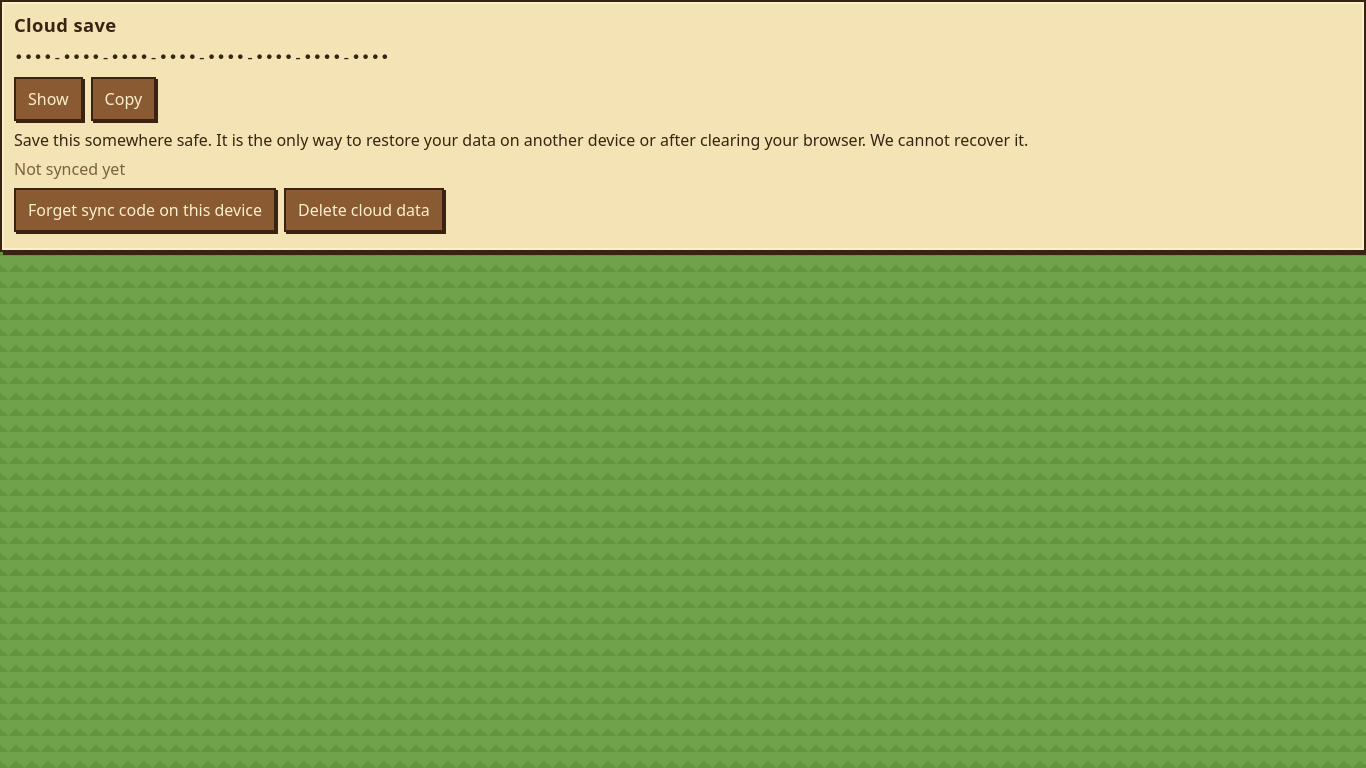
Scenario: SyncSection fix round › failed delete (code kept) shows an explicit message
Click the button "Delete cloud data" at [364, 210], box [284,188,444,232]
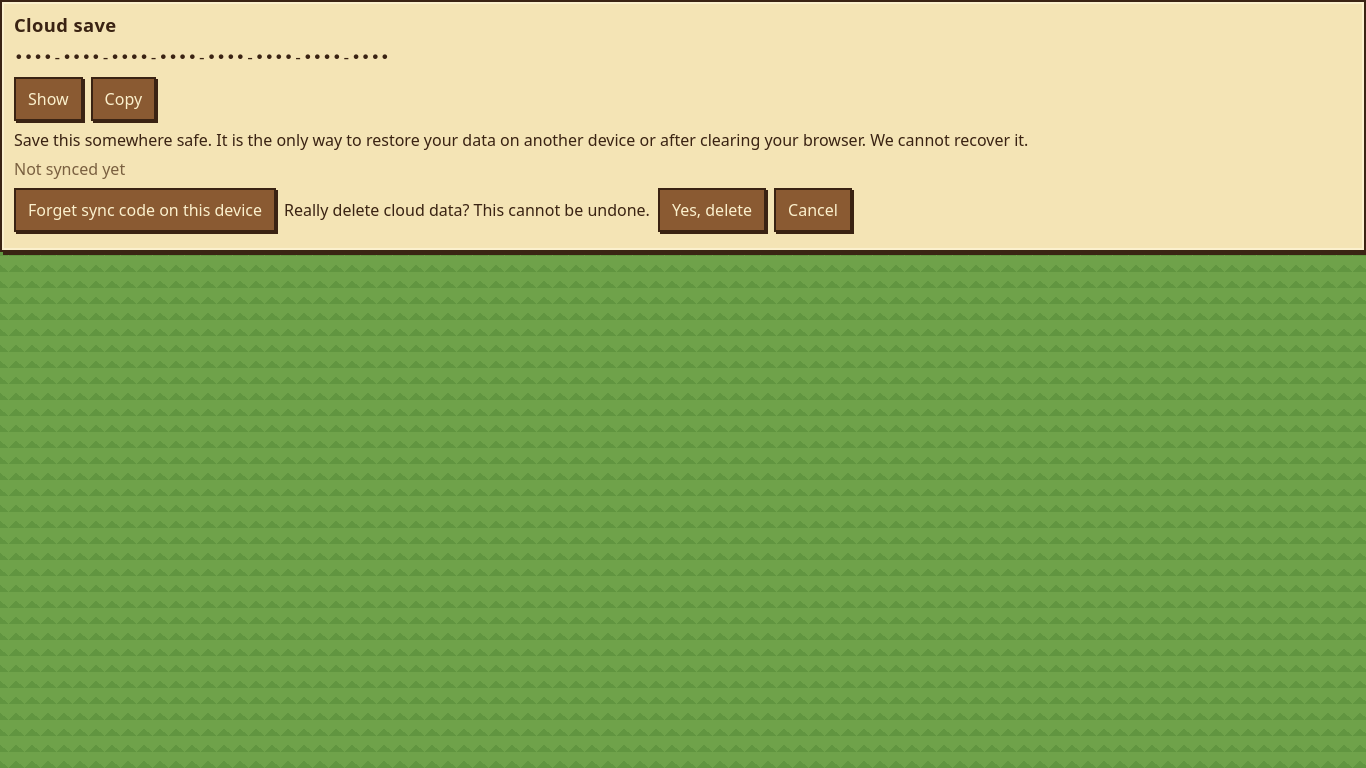
Click the button "Yes, delete" at [712, 210], box [658,188,766,232]
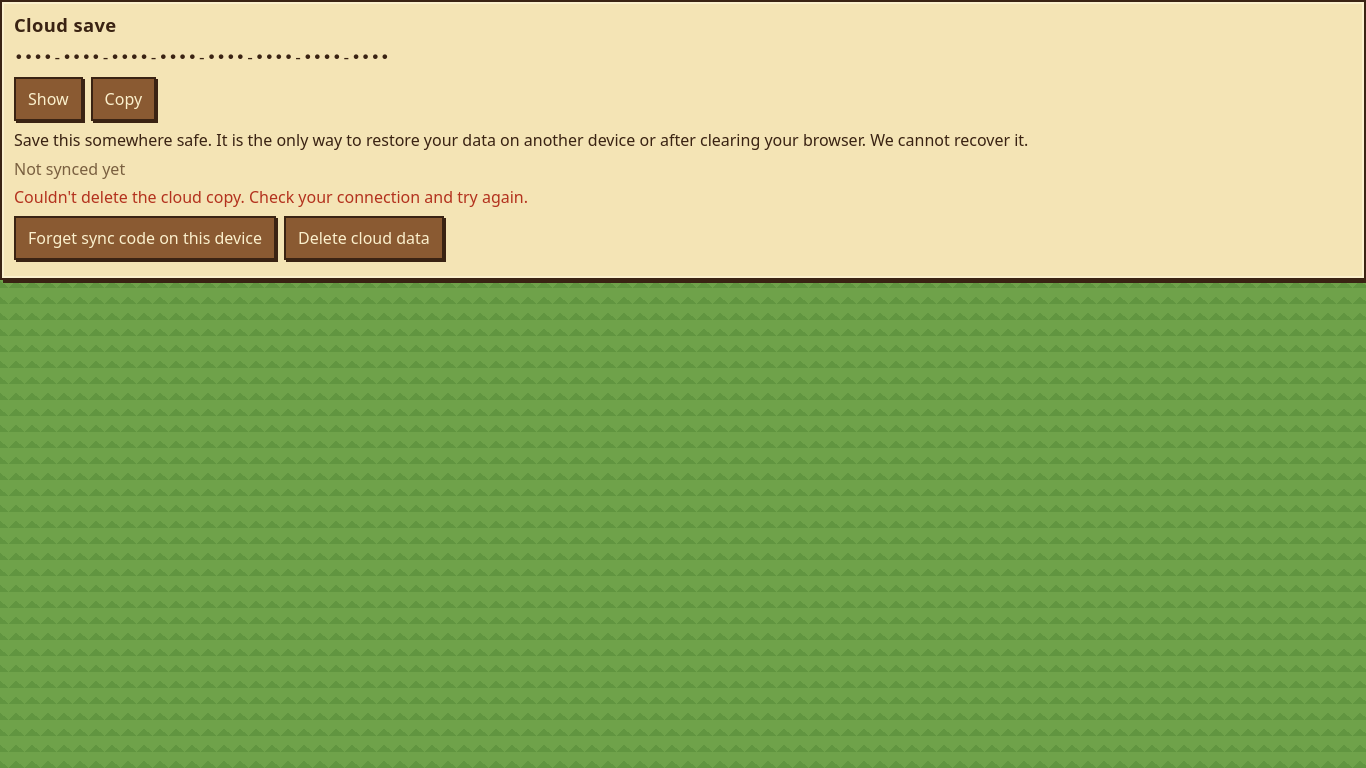
Expected: the button "Forget sync code on this device" is shown, [14,216,276,260]
Expected: the text "Couldn't delete the cloud copy. Check your connection and try again." is shown, [14,186,528,208]
